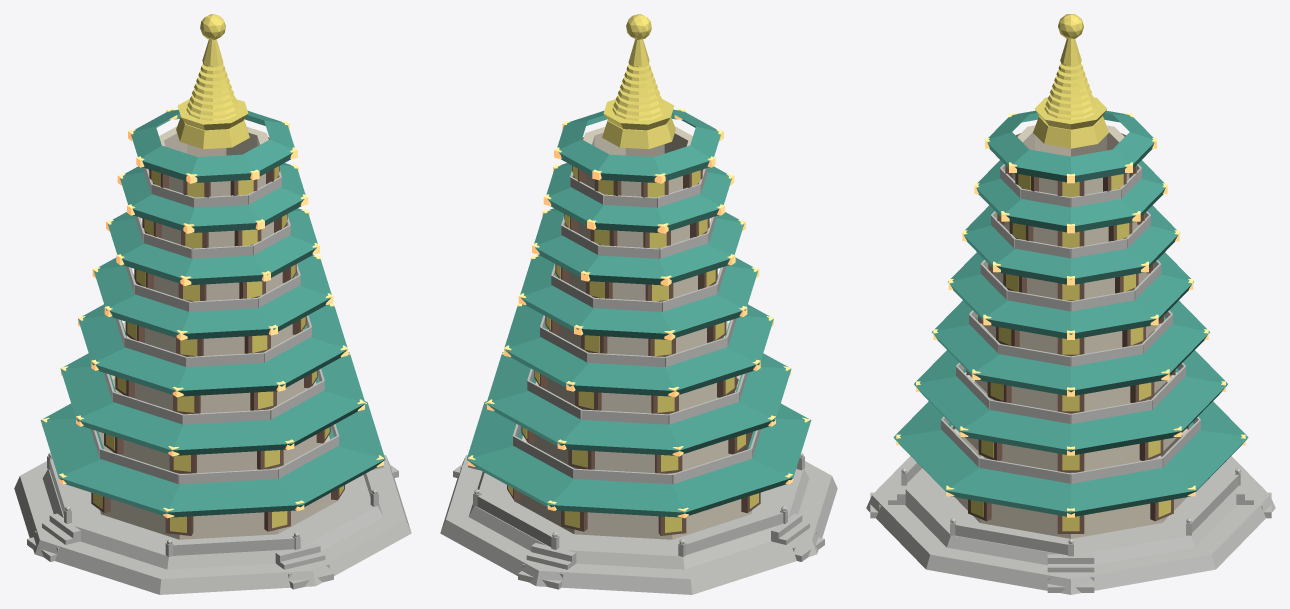
File: thap-xa-loi.glb
The picture shows the model from 3 angles, left to right: view 1: azimuth 30°, elevation 25°; view 2: azimuth 150°, elevation 25°; view 3: azimuth 270°, elevation 25°; orthographic projection.
Visible parts, largest first — view 1: txl_roofs, txl_base, txl_walls, txl_gold, txl_timber, txl_lanterns; view 2: txl_roofs, txl_base, txl_walls, txl_gold, txl_timber, txl_lanterns; view 3: txl_roofs, txl_base, txl_walls, txl_gold, txl_timber, txl_lanterns.
Boxes of the visible parts, x1,y1,x2,y2 form: txl_roofs: (40,109,385,517); txl_base: (14,168,411,594); txl_walls: (99,126,337,539); txl_gold: (93,14,343,532); txl_timber: (91,137,344,535); txl_lanterns: (42,108,383,518); txl_roofs: (466,109,811,517); txl_base: (440,168,837,594); txl_walls: (514,126,752,539); txl_gold: (508,14,758,532); txl_timber: (507,137,760,535); txl_lanterns: (468,108,809,518); txl_roofs: (893,110,1248,516); txl_base: (866,164,1275,594); txl_walls: (954,125,1187,538); txl_gold: (966,14,1175,531); txl_timber: (953,133,1188,533); txl_lanterns: (896,113,1245,517).
Size of the model in its own units: 28 by 37.23 by 28.
